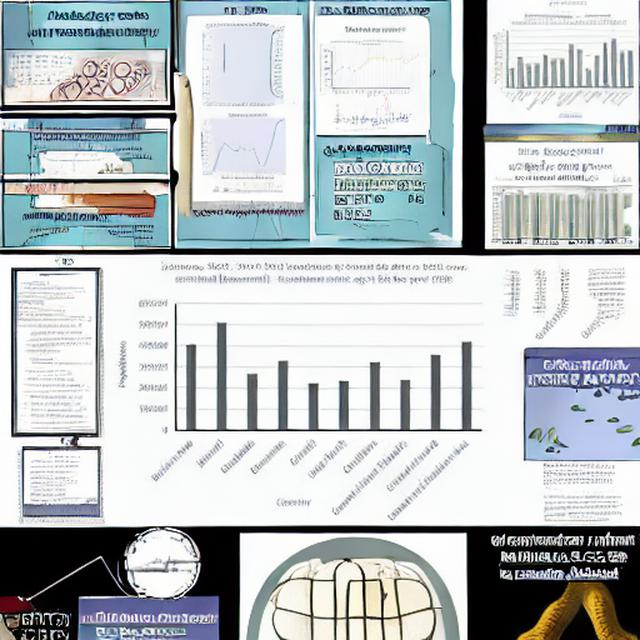Graph: (107, 258, 501, 522), (489, 11, 638, 119), (197, 108, 296, 182), (317, 38, 413, 99)
